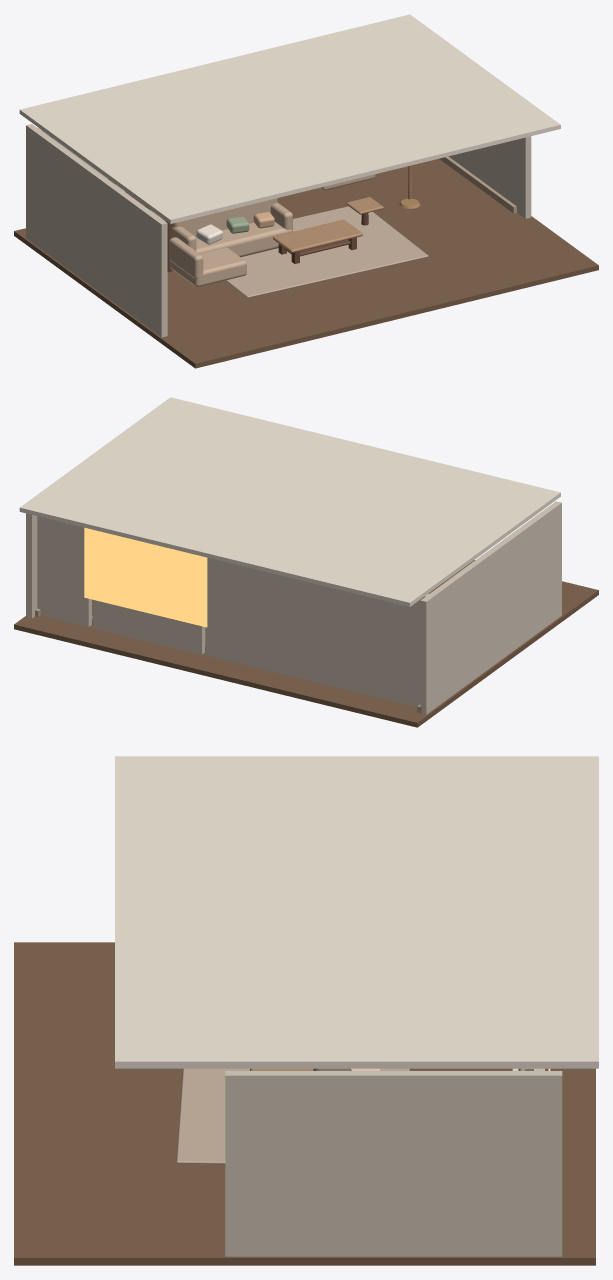
Rendered from warm-lounge-room.mobile.glb.
3 renders of one model, top to bottom at view 1: azimuth 30°, elevation 25°; view 2: azimuth 150°, elevation 25°; view 3: azimuth 270°, elevation 25°, orthographic. The views are drawn at different scales.
Visible parts, largest first — view 1: Ceiling, Floor, WallCluster, Rug, SofaCluster, CoffeeTable, TrimCluster, CoffeeTableCluster; view 2: Ceiling, WallCluster, Floor, SunPanel; view 3: Ceiling, WallCluster, Floor, Rug.
Part boxes in pixels (x1,y1,x2,y2): Ceiling: (19, 14, 560, 223); Floor: (14, 158, 598, 368); WallCluster: (26, 124, 531, 337); Rug: (225, 206, 428, 297); SofaCluster: (169, 174, 375, 286); CoffeeTable: (273, 219, 362, 252); TrimCluster: (108, 156, 516, 213); CoffeeTableCluster: (278, 237, 356, 263); Ceiling: (19, 397, 560, 606); WallCluster: (26, 501, 561, 714); Floor: (14, 560, 598, 727); SunPanel: (84, 527, 207, 627); Ceiling: (115, 756, 598, 1068); WallCluster: (225, 1068, 562, 1256); Floor: (14, 942, 595, 1265); Rug: (176, 1068, 409, 1164).
Size of the model in its own units: 12.2 by 3.79 by 9.55.
